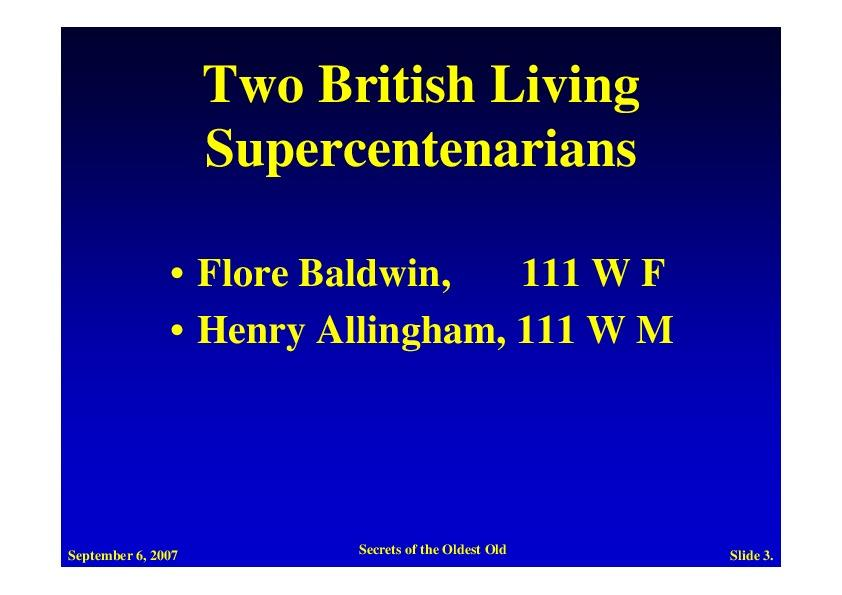subtitle: (158, 242, 697, 362), (58, 532, 787, 565)
title: (191, 49, 649, 188)
